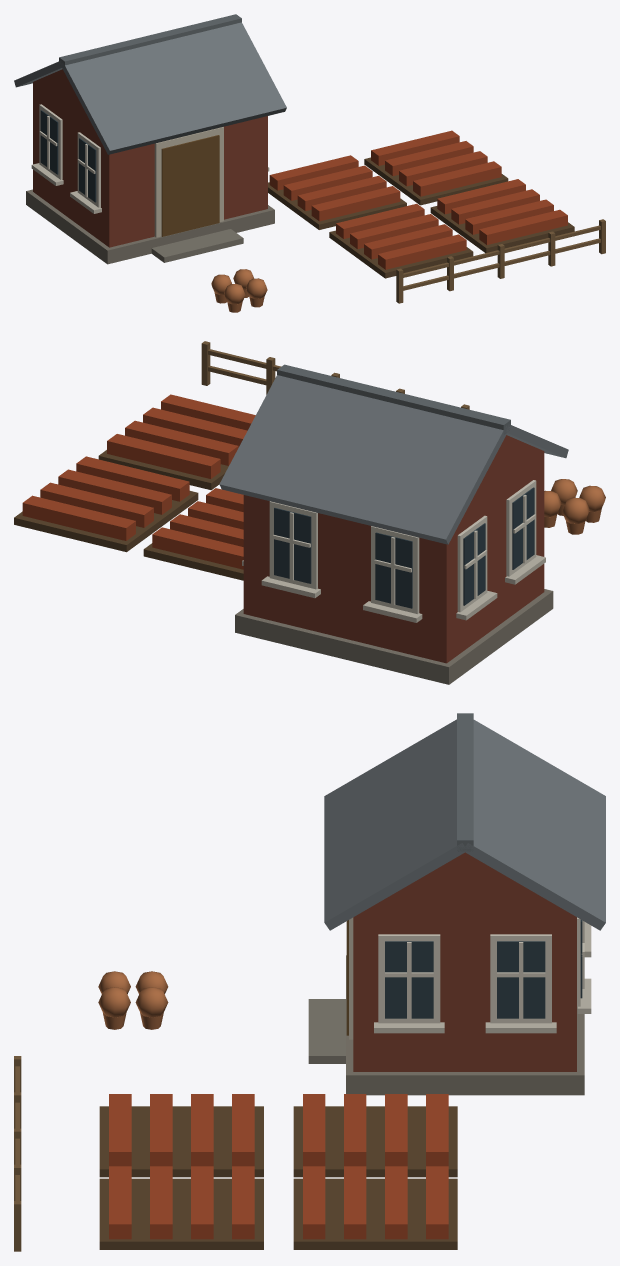
Rendered from procedural_spice_garden@5.glb.
3 renders of one model, top to bottom at view 1: azimuth 30°, elevation 25°; view 2: azimuth 150°, elevation 25°; view 3: azimuth 270°, elevation 25°, orthographic. The views are drawn at different scales.
Parts seen in each view (by area): view 1: part_0; view 2: part_0; view 3: part_0.
Boxes of the visible parts, box(x1,y1,x2,y2) form: part_0: box(14, 14, 605, 312); part_0: box(14, 341, 605, 684); part_0: box(14, 713, 605, 1251).
Size of the model in its own units: 8.86 by 3.83 by 7.94.
